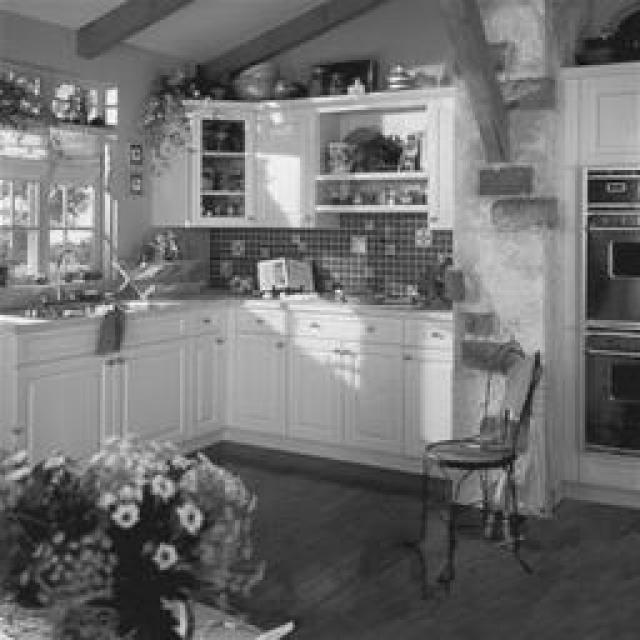chair: (408, 338, 542, 604)
